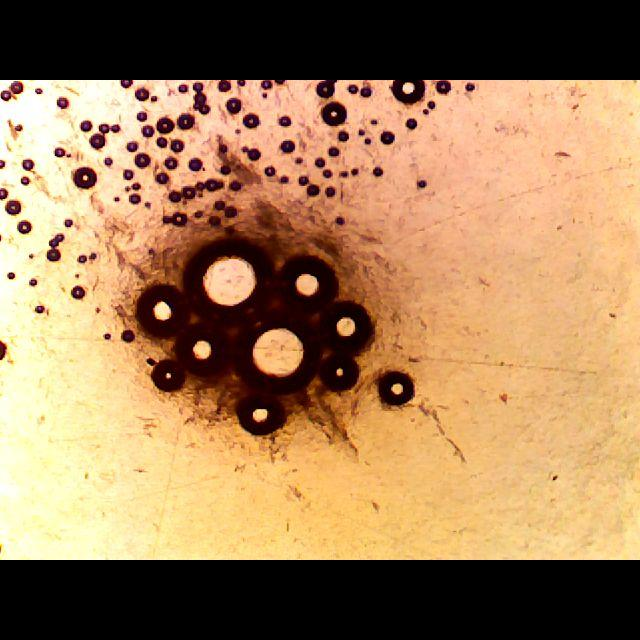microbeads: (226, 307, 322, 397), (176, 236, 278, 320), (276, 249, 340, 315), (178, 318, 236, 380), (134, 286, 192, 342), (322, 300, 376, 356), (232, 391, 290, 437), (314, 351, 362, 395), (372, 366, 414, 406), (151, 356, 187, 392)
